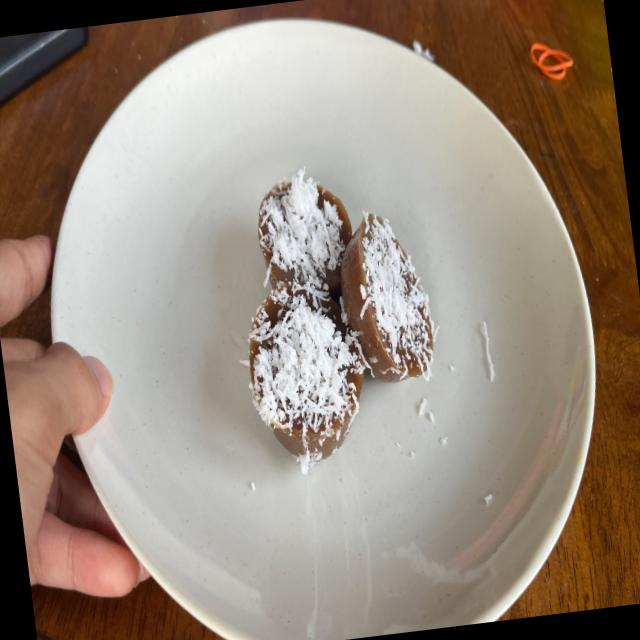Kuih lompang: (249, 282, 365, 460), (340, 213, 436, 381), (258, 168, 352, 300)
